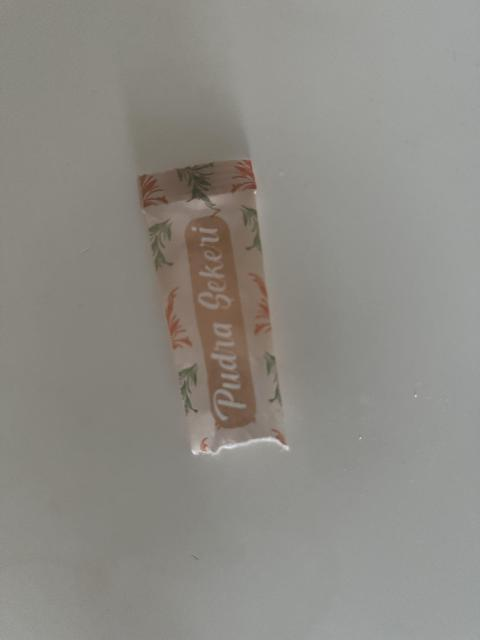Kagit: (135, 159, 290, 456)
